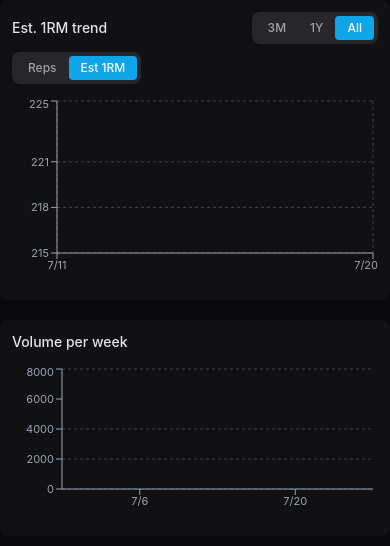
rep_total detail tabs (no e1RM anywhere) › ChartsTab: e1rm-path exercise defaults to e1RM and can switch to reps
The width and height of the screenshot is (390, 546).
Expected: the text "Est. 1RM trend" is shown, x1=12 y1=18 x2=107 y2=38
What coordinates should you click on to do the following:
click the button "Reps"
I would click on:
 (42, 68)
Its box is x1=16 y1=56 x2=68 y2=80.
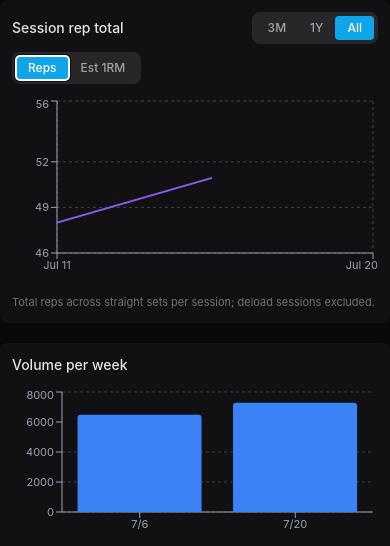
Expected: the text "Session rep total" is shown, x1=12 y1=18 x2=124 y2=38
Expected: the text "Est. 1RM trend" is gone
